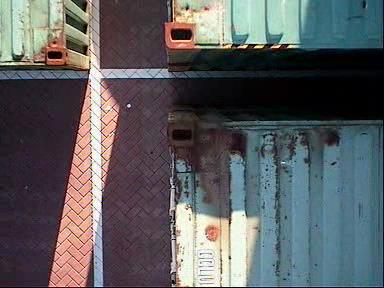groundmarker_2: (163, 183, 247, 226)
